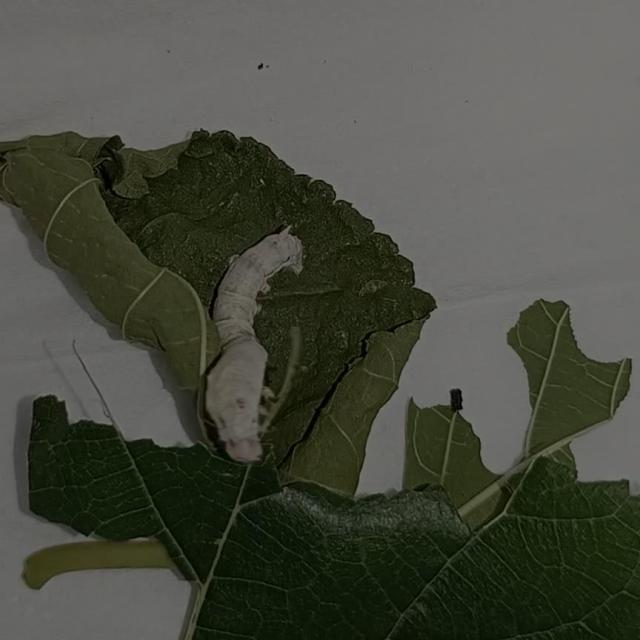Healthy: (178, 174, 358, 518)
